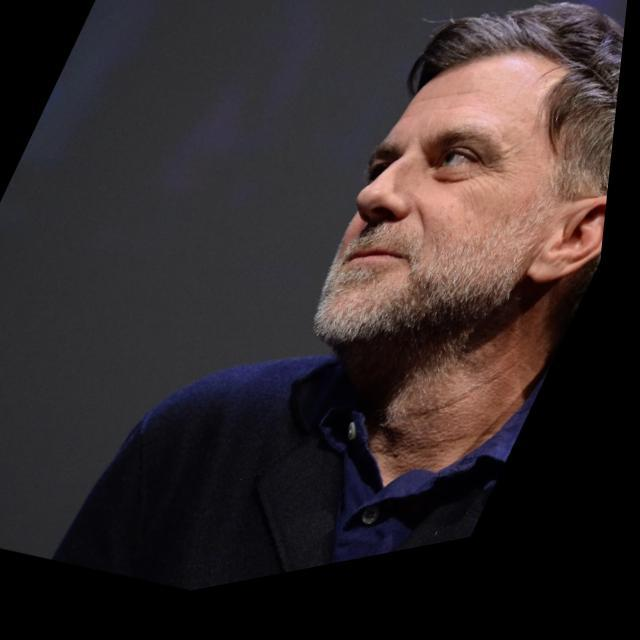Nonhelmet: (298, 5, 622, 368)
